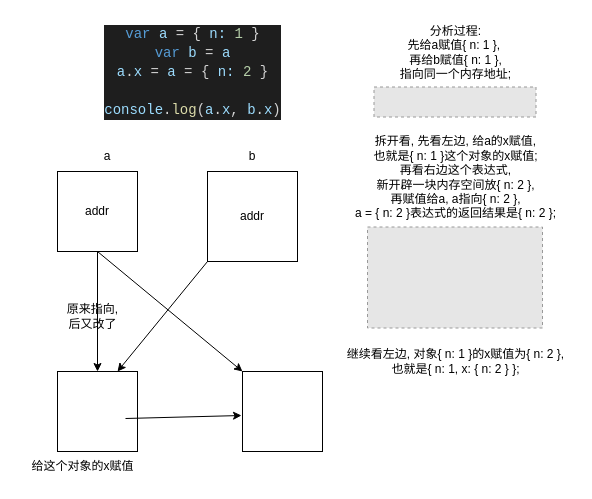
This 592x499 diagram has some shape labels left out. Grey dashed boxes stand in for pictures. Here are the shapes that lost their labels. From the top down, the centre of each, then its label:
At (x=97, y=411): "{ n: 1 x: addr2 }".
At (x=282, y=411): "{ n: 2 }".
